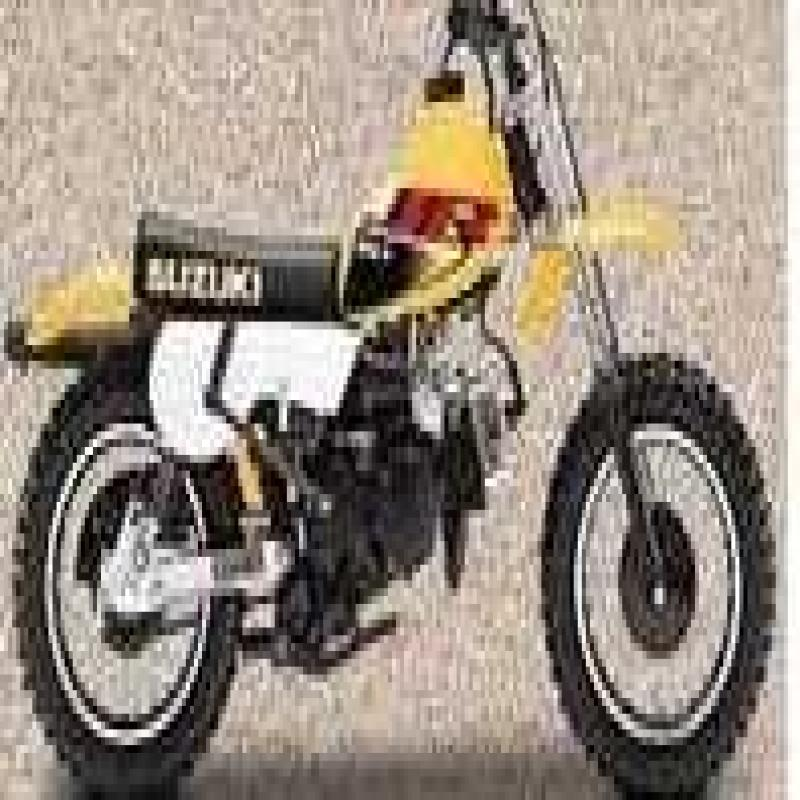bike: (13, 6, 768, 800)
